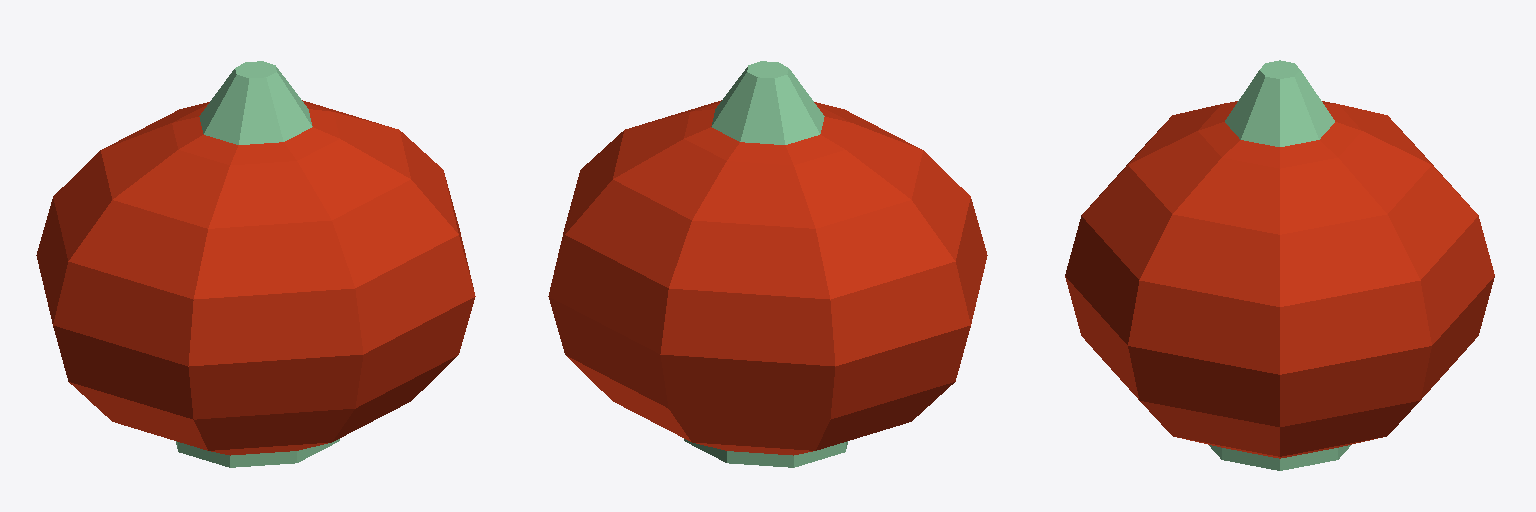
Rendered from onion_clr.obj.
The picture shows the model from 3 angles: view 1: azimuth 30°, elevation 25°; view 2: azimuth 150°, elevation 25°; view 3: azimuth 270°, elevation 25°; orthographic projection.
Visible parts, largest first — view 1: Onion; view 2: Onion; view 3: Onion.
Part boxes in pixels (bbox=[...]): Onion: bbox=[36, 61, 475, 467]; Onion: bbox=[548, 61, 987, 467]; Onion: bbox=[1065, 60, 1494, 470].
Bounding box in the file's own units: 4.02 × 3.52 × 3.69.